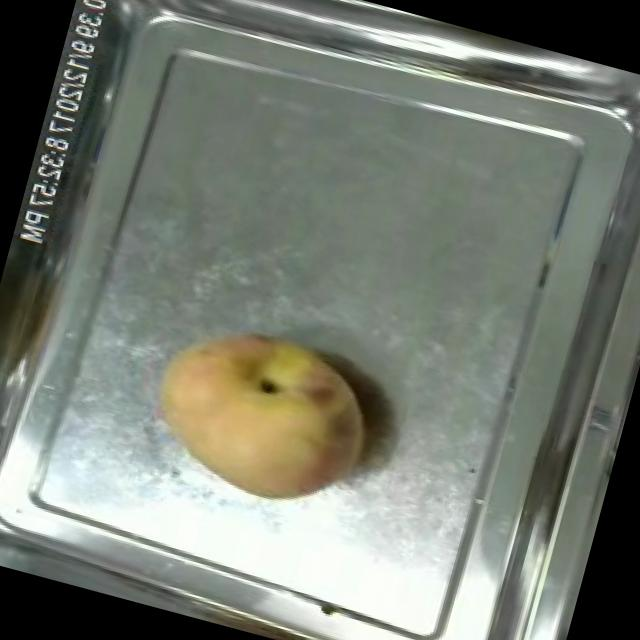Fruit: (126, 297, 392, 528)
